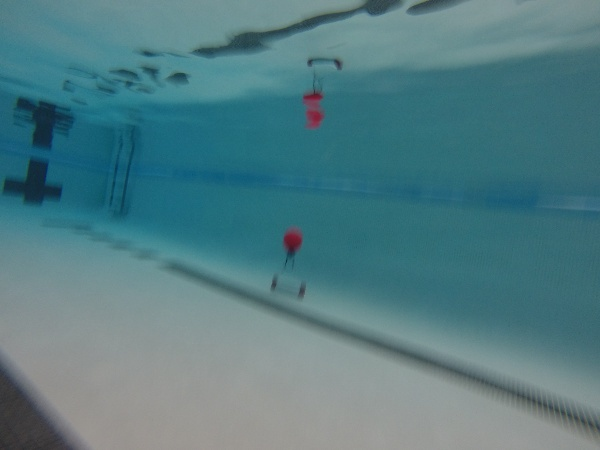buoy_red: (281, 227, 305, 257)
